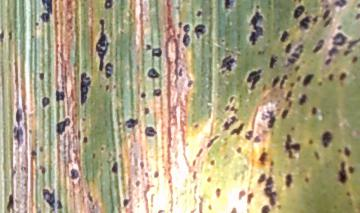tarspot: (94, 17, 109, 73), (256, 172, 277, 209), (331, 32, 359, 56), (10, 107, 25, 151), (248, 10, 265, 47), (283, 133, 302, 161), (78, 70, 93, 104), (41, 187, 59, 213), (244, 67, 263, 91), (216, 54, 236, 75), (38, 1, 56, 23), (287, 43, 304, 66), (259, 109, 278, 129), (55, 116, 73, 136), (222, 114, 239, 131), (337, 159, 348, 185), (310, 37, 325, 55), (181, 24, 192, 48), (291, 4, 307, 20), (193, 23, 207, 41), (320, 130, 333, 149), (5, 191, 16, 213), (204, 134, 219, 149), (229, 122, 245, 136), (299, 14, 312, 31), (143, 125, 158, 139), (145, 67, 161, 80), (124, 117, 139, 130), (301, 72, 314, 87), (325, 45, 340, 58), (283, 172, 294, 189), (54, 88, 67, 102), (68, 167, 80, 182), (196, 193, 205, 213), (268, 53, 279, 69), (104, 61, 113, 80), (320, 9, 333, 22), (40, 96, 52, 109), (150, 47, 163, 59), (243, 128, 255, 141), (109, 160, 120, 174), (278, 29, 289, 43), (257, 151, 268, 165), (279, 73, 288, 90), (121, 195, 132, 208), (297, 93, 308, 106), (246, 191, 255, 206), (151, 87, 163, 98), (342, 145, 352, 158), (312, 149, 322, 162), (323, 16, 333, 29), (326, 71, 336, 84), (85, 190, 94, 204), (331, 1, 346, 9), (194, 146, 204, 158), (191, 168, 199, 183), (281, 108, 290, 121), (283, 42, 293, 53), (270, 76, 280, 87), (150, 168, 160, 179), (55, 198, 64, 210), (38, 163, 47, 175), (223, 1, 235, 10), (103, 1, 113, 11), (186, 78, 195, 89), (311, 14, 320, 25), (222, 103, 231, 114), (214, 187, 222, 199), (7, 29, 14, 42), (259, 204, 269, 213), (338, 71, 347, 81), (229, 105, 239, 114), (175, 20, 185, 29), (142, 106, 150, 117), (237, 189, 245, 200), (322, 58, 333, 66), (288, 79, 296, 90), (38, 71, 45, 83), (29, 149, 38, 158), (350, 55, 359, 64), (190, 158, 199, 167), (139, 90, 147, 100), (81, 135, 89, 145), (208, 159, 218, 167), (138, 160, 145, 171), (347, 165, 355, 174), (253, 3, 262, 11), (334, 23, 343, 31), (252, 135, 261, 143), (134, 179, 142, 188), (195, 9, 202, 19), (286, 99, 293, 109), (228, 95, 235, 105), (293, 64, 300, 74), (285, 90, 291, 101), (155, 207, 166, 213), (192, 122, 200, 130), (303, 175, 310, 184), (344, 189, 351, 198), (353, 11, 360, 20), (235, 146, 242, 155), (315, 80, 324, 87), (256, 49, 265, 56), (38, 145, 45, 154), (1, 27, 5, 42), (311, 106, 317, 116), (178, 65, 183, 77), (26, 127, 33, 135), (289, 125, 296, 133), (117, 151, 123, 160), (307, 138, 314, 145), (206, 204, 213, 211), (205, 176, 212, 183), (323, 3, 330, 10), (336, 147, 343, 154), (276, 202, 282, 210), (143, 170, 149, 178), (90, 152, 96, 160), (98, 146, 106, 152), (144, 43, 150, 50), (104, 84, 110, 91), (230, 206, 236, 213), (80, 116, 87, 122), (220, 37, 225, 44), (355, 3, 360, 9), (292, 1, 302, 4), (320, 1, 329, 3)
